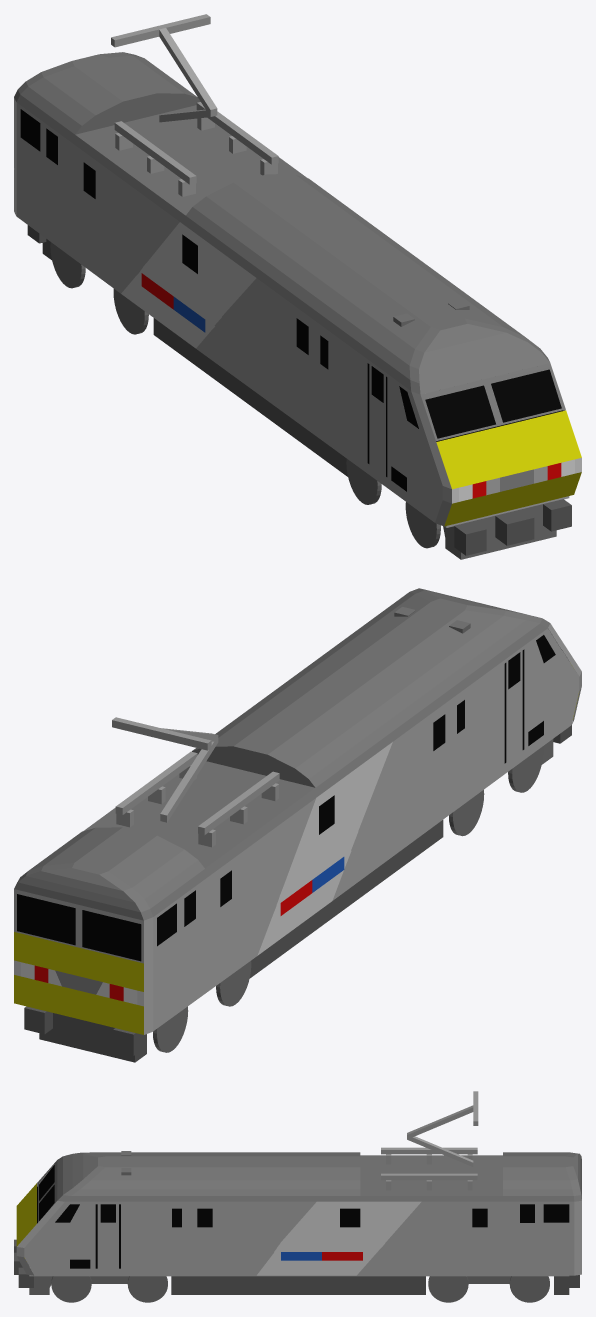
File: br-cl91-nxec.dae
3 renders of one model, top to bottom at view 1: azimuth 30°, elevation 25°; view 2: azimuth 150°, elevation 25°; view 3: azimuth 270°, elevation 25°, orthographic. The views are drawn at different scales.
Parts seen in each view (by area): view 1: Plane_019, Plane_064, Plane_001, Plane_027, Plane_030, Plane_014, Plane_052, Cube_033, Plane_068, Plane_015, Plane_070, Plane_069 (+19 smaller); view 2: Plane_019, Plane_064, Plane_027, Plane_001, Plane_030, Plane_053, Plane_031, Plane_034, Cube_033, Plane_068, Plane_070, Plane_069 (+20 smaller); view 3: Plane_019, Plane_020, Plane_096, Plane_001, Plane_030, Cube_033, Plane_023, Plane_099, Plane_003, Plane_007, Plane, Plane_098 (+28 smaller).
Boxes of the visible parts, x1=… form: Plane_019: x1=14, y1=52, x2=448, y2=332; Plane_064: x1=16, y1=103, x2=360, y2=417; Plane_001: x1=331, y1=266, x2=550, y2=394; Plane_027: x1=16, y1=181, x2=387, y2=487; Plane_030: x1=75, y1=105, x2=306, y2=215; Plane_014: x1=436, y1=410, x2=581, y2=489; Plane_052: x1=425, y1=369, x2=562, y2=441; Cube_033: x1=153, y1=318, x2=347, y2=476; Plane_068: x1=16, y1=167, x2=442, y2=485; Plane_015: x1=444, y1=472, x2=581, y2=526; Plane_070: x1=16, y1=174, x2=364, y2=435; Plane_069: x1=348, y1=381, x2=439, y2=475; Plane_019: x1=14, y1=647, x2=468, y2=920; Plane_064: x1=153, y1=686, x2=495, y2=980; Plane_027: x1=153, y1=722, x2=523, y2=1030; Plane_001: x1=334, y1=588, x2=550, y2=685; Plane_030: x1=84, y1=761, x2=314, y2=868; Plane_053: x1=17, y1=894, x2=141, y2=961; Plane_031: x1=14, y1=932, x2=143, y2=991; Plane_034: x1=14, y1=975, x2=143, y2=1034; Cube_033: x1=249, y1=820, x2=443, y2=978; Plane_068: x1=153, y1=672, x2=578, y2=987; Plane_070: x1=153, y1=736, x2=501, y2=995; Plane_069: x1=484, y1=652, x2=575, y2=729; Plane_019: x1=167, y1=1152, x2=581, y2=1201; Plane_020: x1=131, y1=1206, x2=476, y2=1243; Plane_096: x1=95, y1=1247, x2=436, y2=1275; Plane_001: x1=57, y1=1152, x2=197, y2=1201; Plane_030: x1=360, y1=1155, x2=502, y2=1195; Cube_033: x1=171, y1=1276, x2=425, y2=1294; Plane_023: x1=416, y1=1252, x2=574, y2=1275; Plane_099: x1=445, y1=1201, x2=574, y2=1243; Plane_003: x1=25, y1=1243, x2=574, y2=1247; Plane_007: x1=125, y1=1247, x2=574, y2=1252; Plane: x1=29, y1=1224, x2=145, y2=1243; Plane_098: x1=163, y1=1201, x2=480, y2=1206.
Size of the model in its own units: 2.03 by 11.15 by 3.87.
